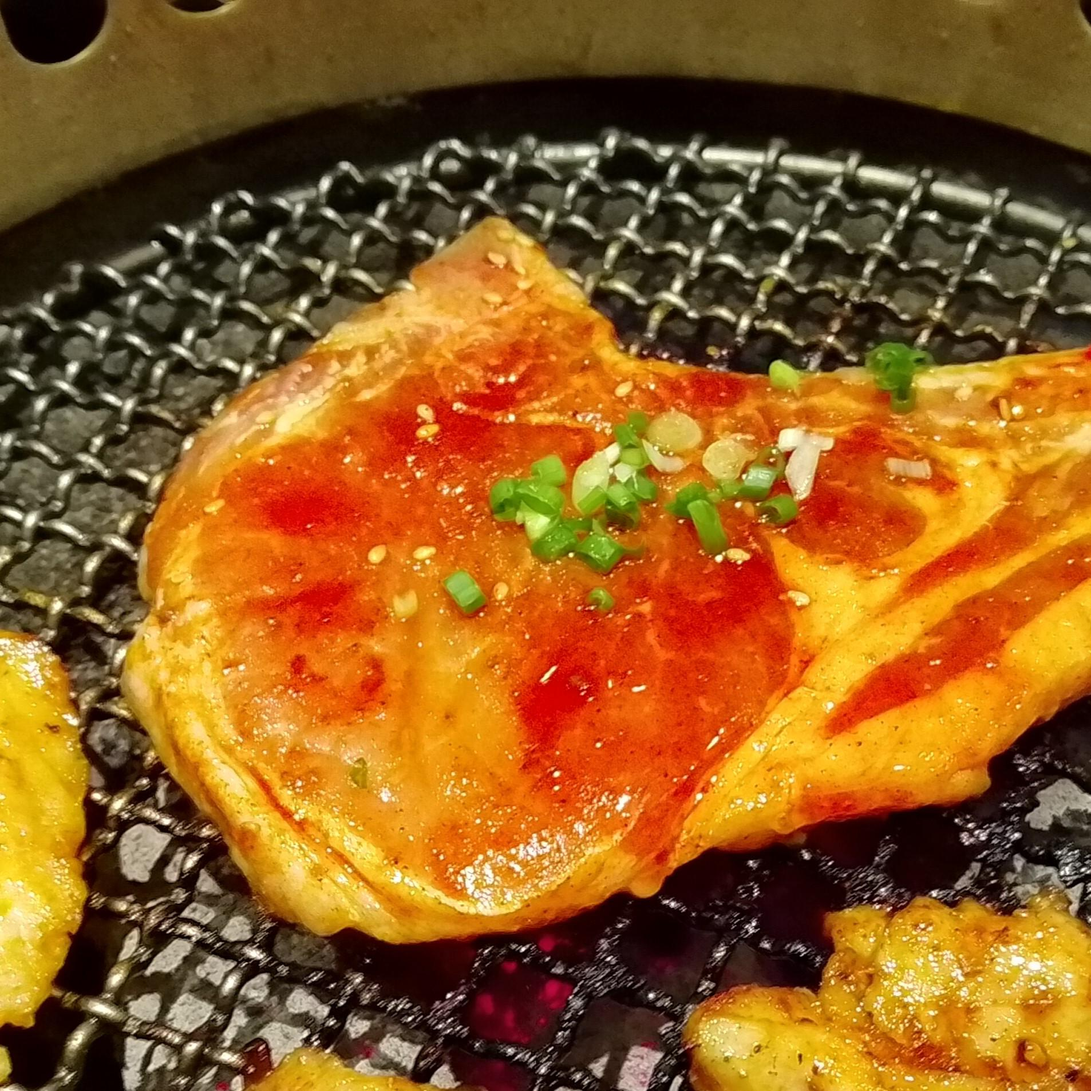Undercooked: (123, 220, 1090, 942)
Well-Cooked: (686, 899, 1090, 1090), (0, 625, 92, 1030)
